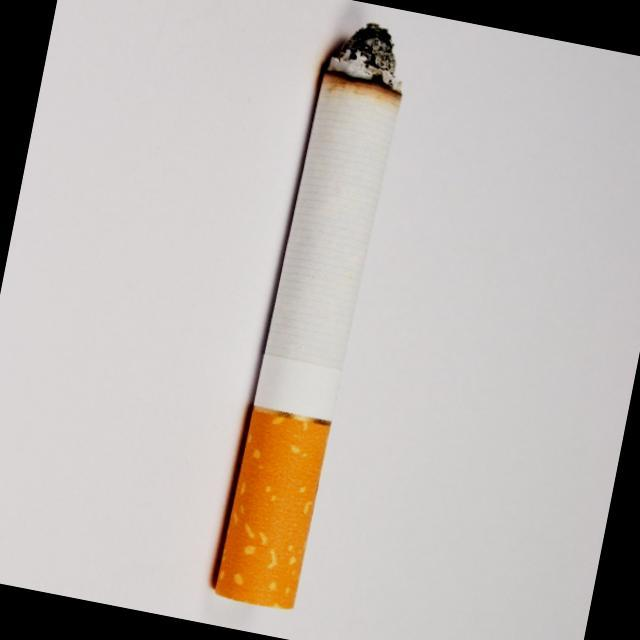cigarette: (202, 8, 430, 623)
